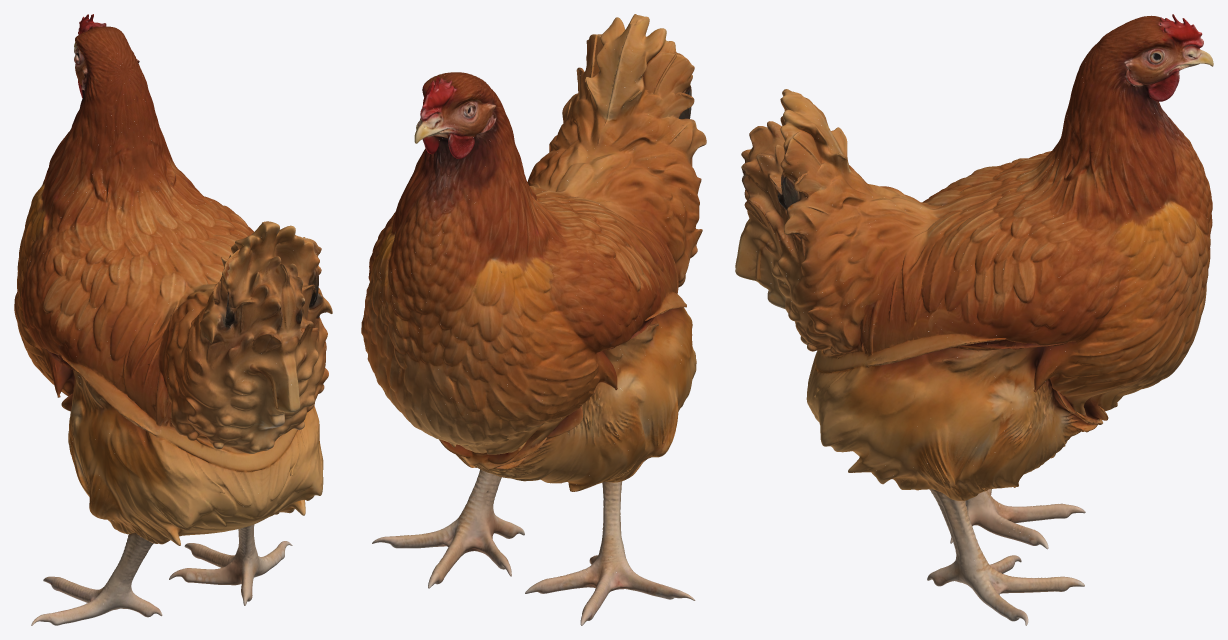
Rendered from hen.glb.
3 renders of one model, left to right at view 1: azimuth 30°, elevation 25°; view 2: azimuth 150°, elevation 25°; view 3: azimuth 270°, elevation 25°, orthographic. The views are drawn at different scales.
Parts seen in each view (by area): view 1: Object_7, Object_5, Object_8, Object_4, Object_11, Object_12, Object_14, Object_10, Object_6, Object_9, Object_13; view 2: Object_4, Object_5, Object_6, Object_12, Object_8, Object_14, Object_13, Object_9, Object_7, Object_11, Object_15, Object_10; view 3: Object_14, Object_9, Object_13, Object_10, Object_8, Object_11, Object_12, Object_5, Object_4, Object_6.
Part boxes in pixels (box(x1,y1,x2,y2)): Object_7: box(72, 341, 292, 617); Object_5: box(15, 66, 181, 621); Object_8: box(124, 189, 325, 532); Object_4: box(14, 14, 180, 343); Object_11: box(36, 222, 332, 625); Object_12: box(52, 206, 292, 584); Object_14: box(31, 14, 244, 625); Object_10: box(214, 346, 328, 605); Object_6: box(22, 320, 219, 618); Object_9: box(133, 192, 328, 513); Object_13: box(169, 200, 253, 547); Object_4: box(404, 72, 640, 416); Object_5: box(391, 130, 678, 595); Object_6: box(482, 304, 686, 625); Object_12: box(372, 19, 706, 588); Object_8: box(527, 26, 702, 249); Object_14: box(365, 72, 695, 600); Object_13: box(361, 191, 541, 588); Object_9: box(528, 14, 662, 215); Object_7: box(590, 226, 697, 561); Object_11: box(439, 15, 694, 599); Object_15: box(516, 313, 652, 589); Object_10: box(486, 150, 549, 539); Object_14: box(993, 14, 1213, 516); Object_9: box(741, 92, 1068, 499); Object_13: box(976, 173, 1212, 590); Object_10: box(735, 244, 987, 586); Object_8: box(735, 102, 1065, 384); Object_11: box(735, 90, 1044, 604); Object_12: box(781, 89, 1100, 625); Object_5: box(965, 42, 1175, 538); Object_4: box(960, 15, 1212, 259); Object_6: box(951, 490, 1085, 549).
Bounding box in the file's own units: 0.5645 × 0.9992 × 0.7878.
1 material, 1 textured.
